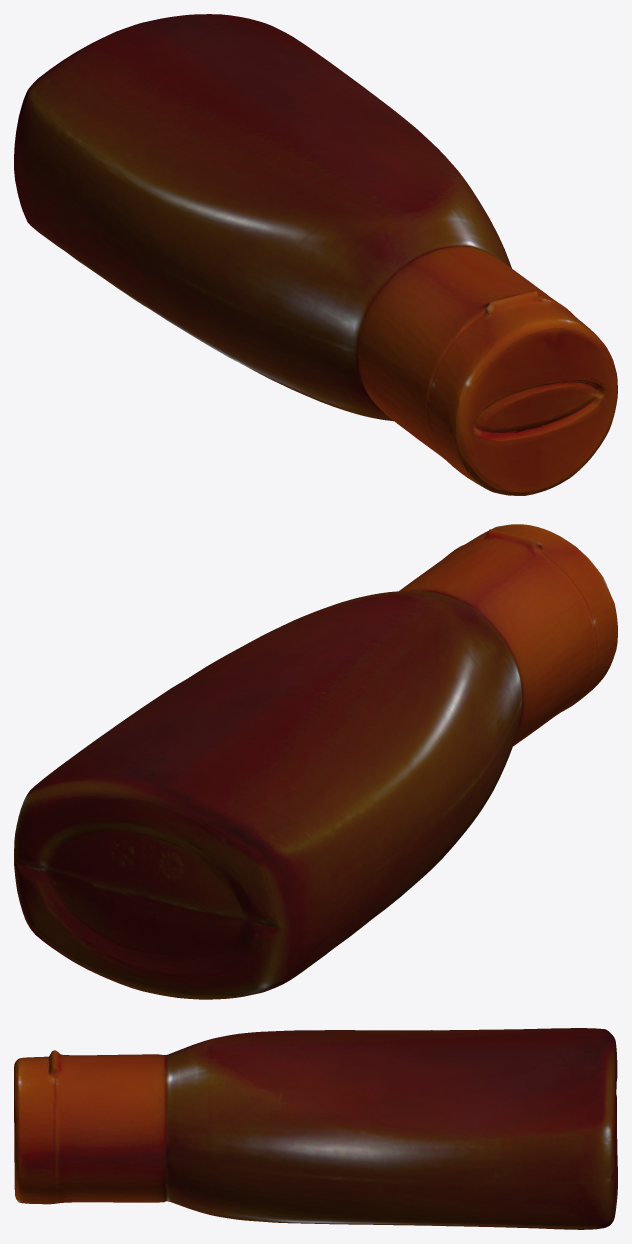
File: bbq_sauce.obj
3 renders of one model, top to bottom at view 1: azimuth 30°, elevation 25°; view 2: azimuth 150°, elevation 25°; view 3: azimuth 270°, elevation 25°, orthographic. The views are drawn at different scales.
Visible parts, largest first — view 1: bbq_sauce; view 2: bbq_sauce; view 3: bbq_sauce.
Boxes of the visible parts, x1,y1,x2,y2 form: bbq_sauce: (14,14,617,495); bbq_sauce: (14,524,617,999); bbq_sauce: (14,1028,617,1229).
Bounding box in the file's own units: 6.46 × 4.35 × 14.83.
